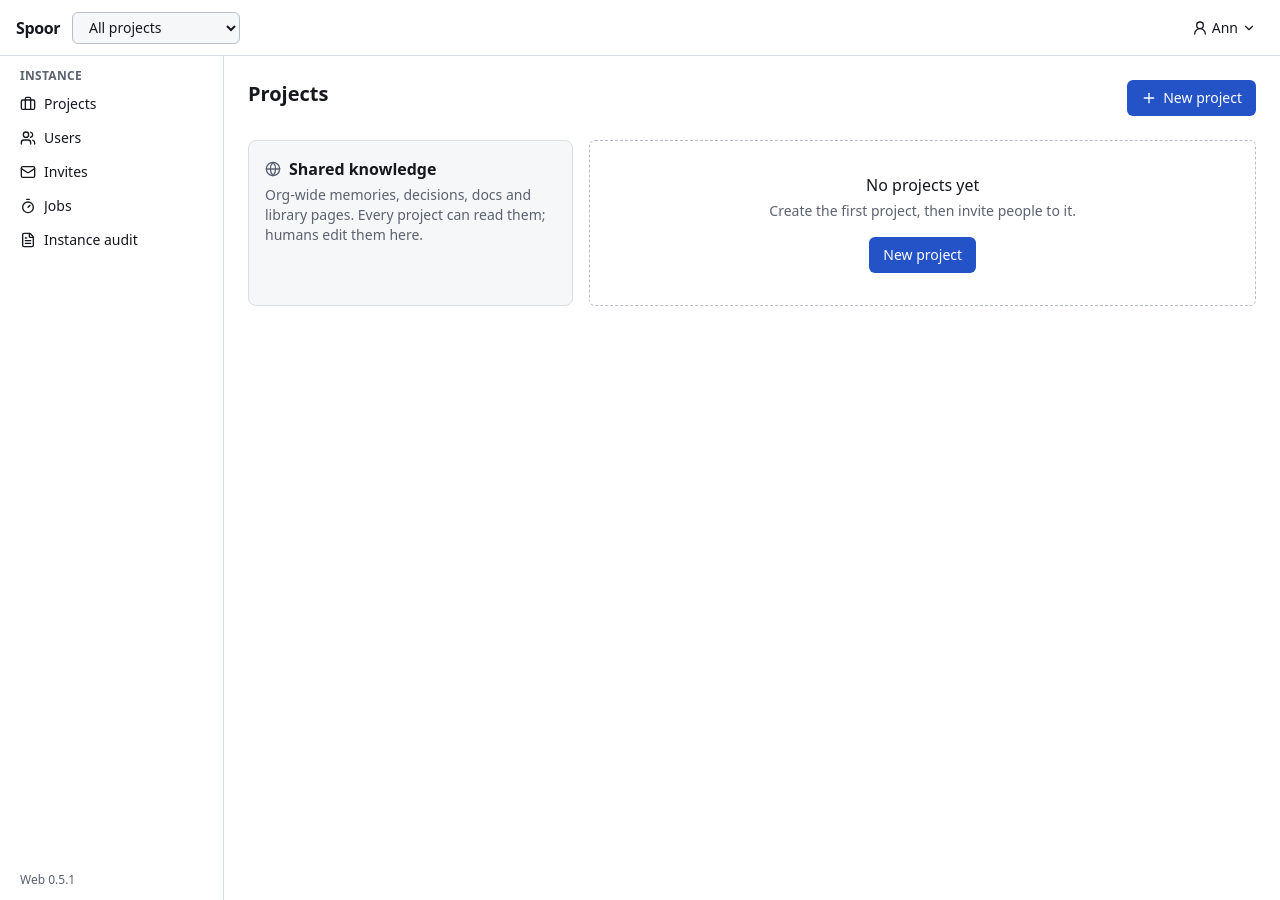
Test: ProjectsPage › validates the slug locally
Click the 1st button "New project": (1192, 98) [1127,80,1256,116]
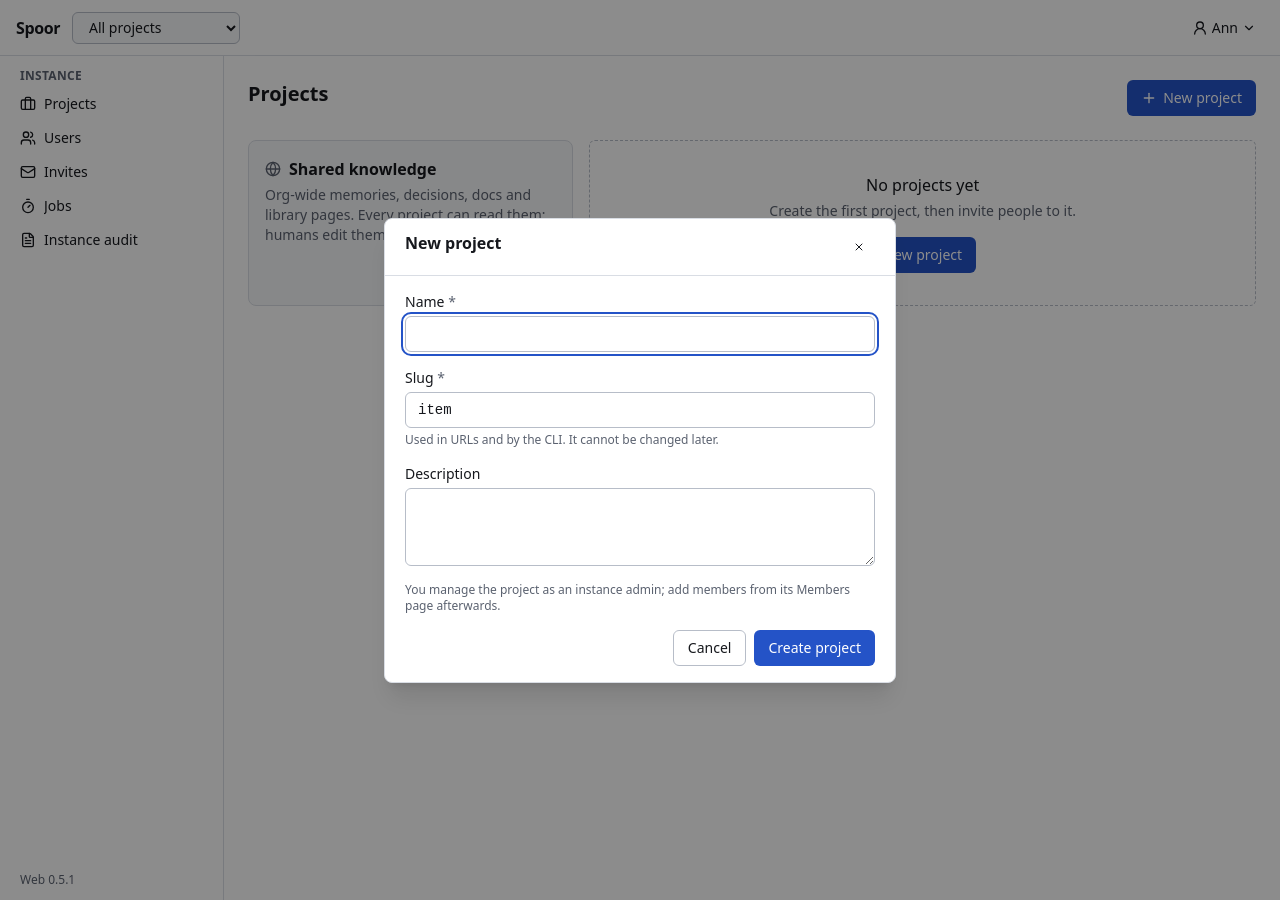
In the field labelled "Name *": (640, 334) [405,316,875,352], type "API"
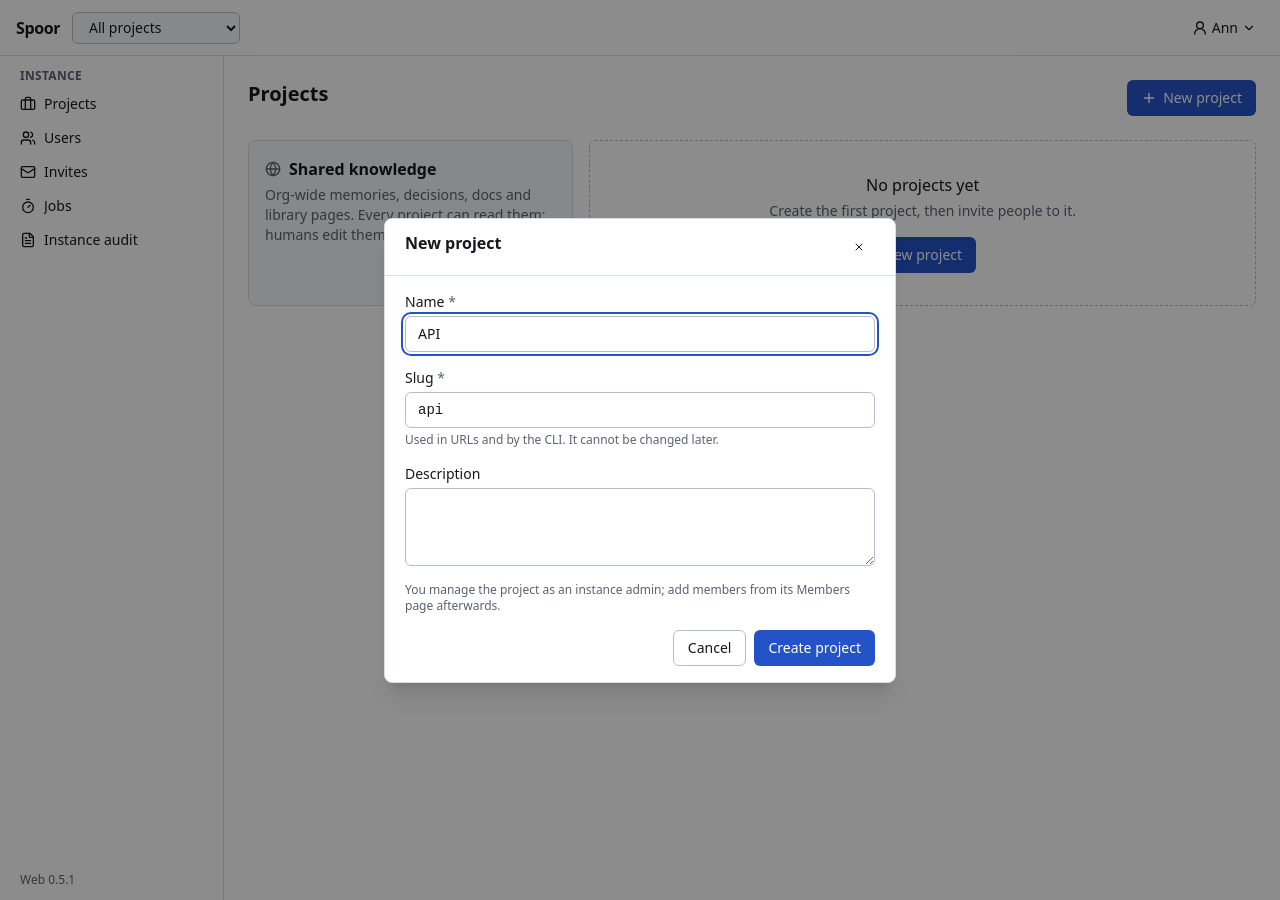
Click the button "Create project": (815, 648) [754,630,875,666]
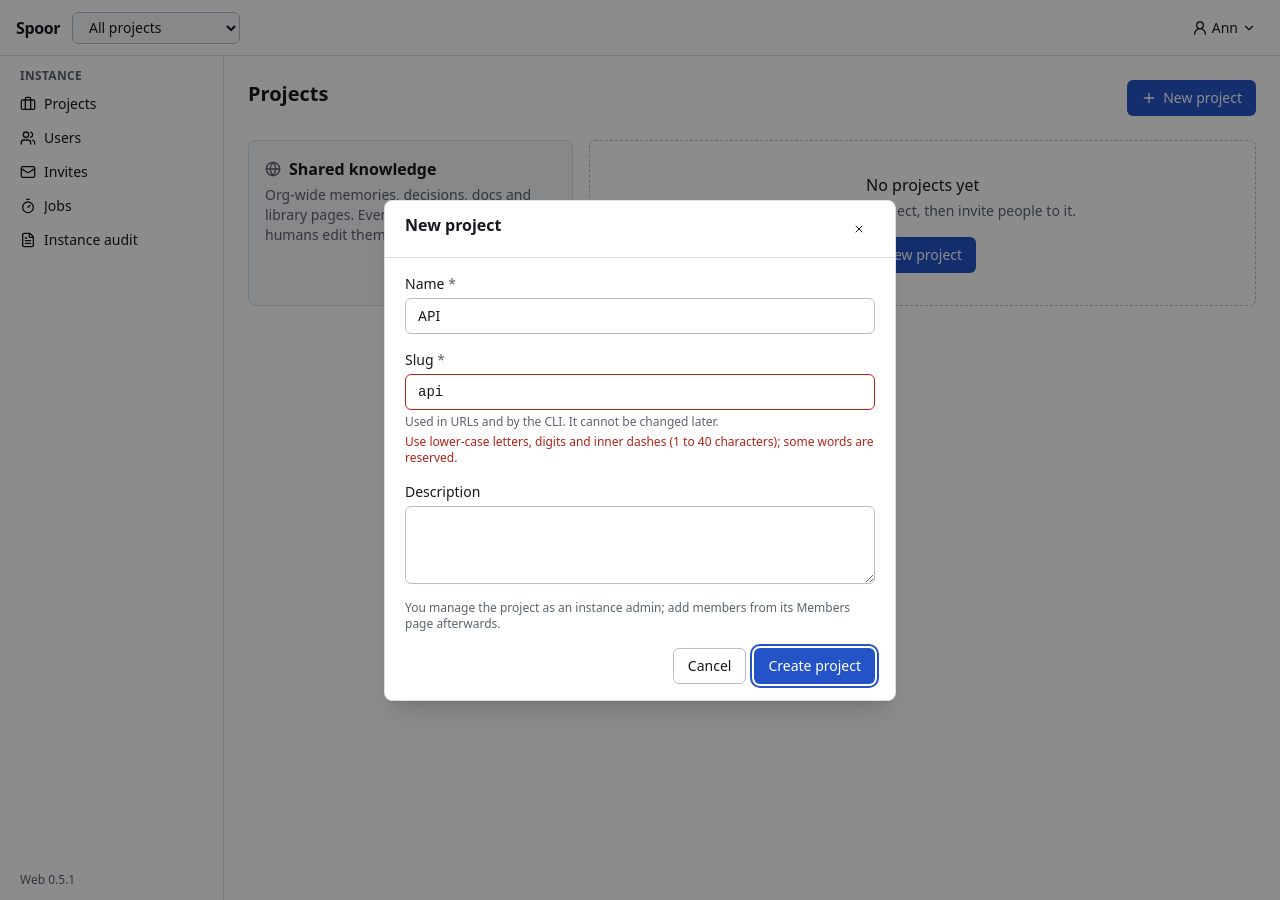
Expected: the text "some words are reserved" is shown, [405,432,874,466]
